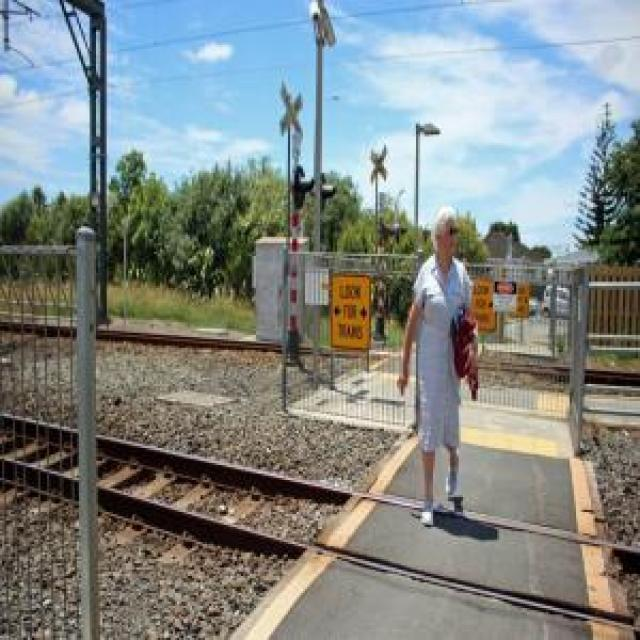rail: (1, 395, 640, 640), (1, 307, 640, 408)
